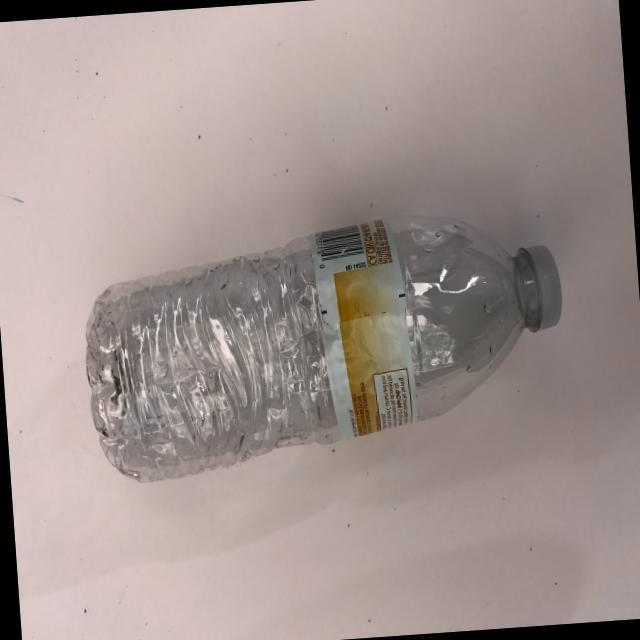plastic: (59, 144, 574, 529)
